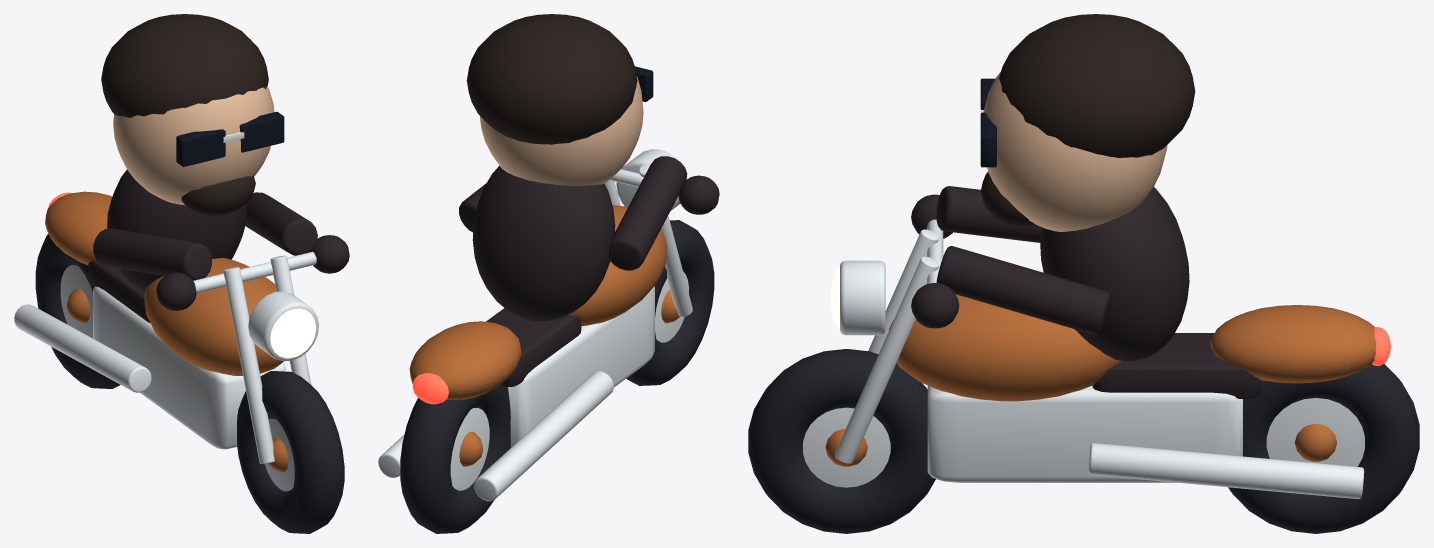
The model's file is yuda.glb.
3 views of the same model, side by side, from view 1: azimuth 30°, elevation 25°; view 2: azimuth 150°, elevation 25°; view 3: azimuth 270°, elevation 25° (orthographic). The views are drawn at different scales.
Visible parts, largest first — view 1: MasterYuda; view 2: MasterYuda; view 3: MasterYuda.
Boxes of the visible parts, x1,y1,x2,y2 form: MasterYuda: [14, 14, 349, 533]; MasterYuda: [378, 14, 719, 533]; MasterYuda: [748, 14, 1419, 533].
Bounding box in the file's own units: 1.91 × 4.16 × 5.01.
